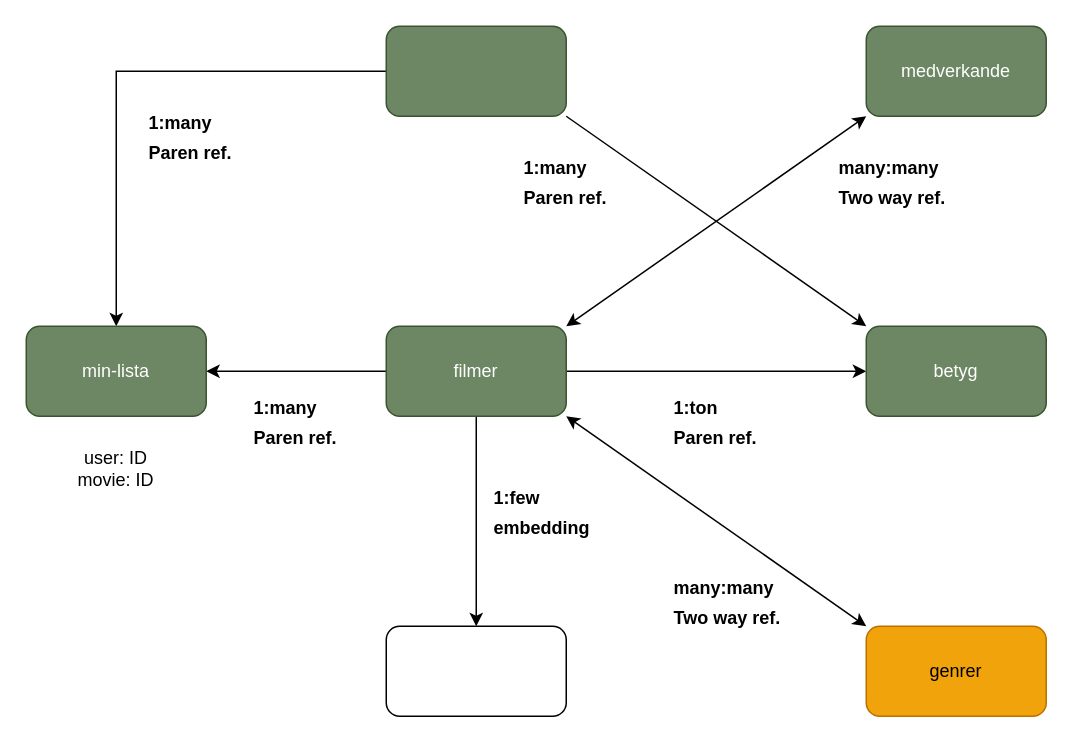
Image size: 1073x743. Some labels were removed from this diagram. The box of each missing label's shape, as (x1, y1, x2, y2) in pixels:
användare: (385, 25, 566, 116)
collection: (385, 625, 566, 716)
